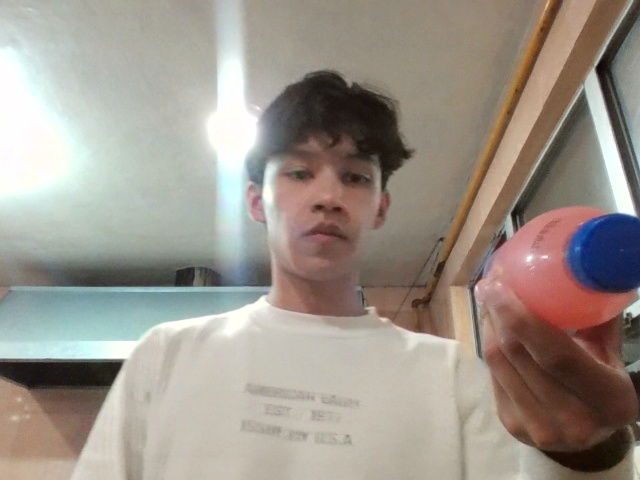botella: (447, 150, 640, 383)
